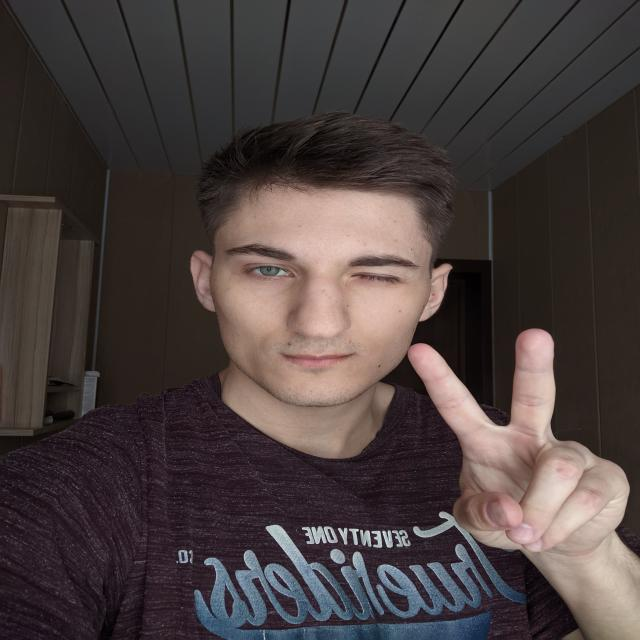Eyeclosed: (350, 269, 400, 288)
Eyeopen: (249, 264, 294, 280)
